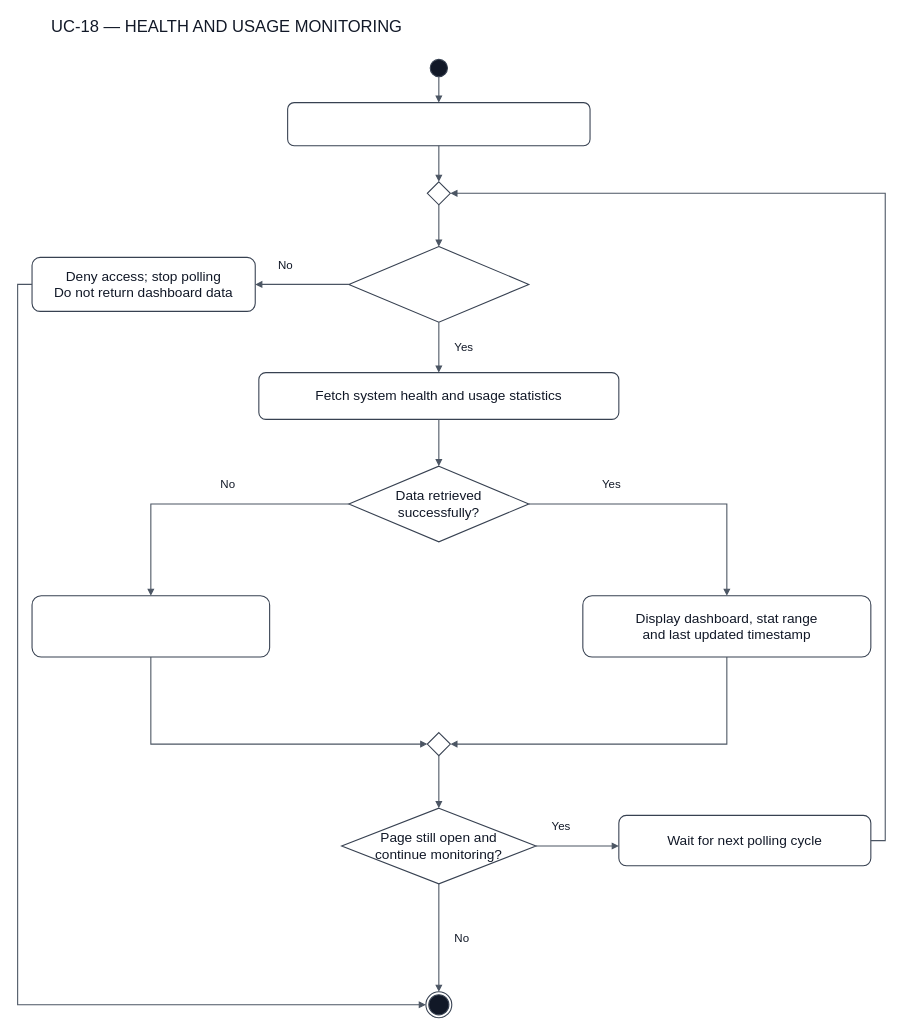
Some shapes in this 904 by 1030 pixel diagram are drawn without their labels. The centre of each missing label's shape, as x and y in pixels:
"ADMIN opens monitoring dashboard" goes at [438,124].
"Report unavailable source/metric; if keeping stale value, show timestamp" goes at [150,626].
"Valid session and ADMIN permission?" goes at [438,284].
